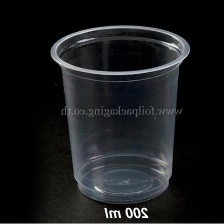glass: (46, 21, 193, 207)
